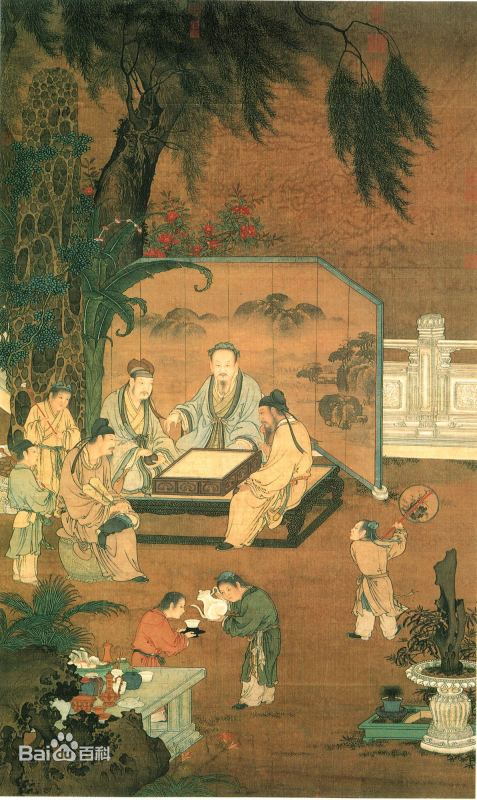chessboard: (156, 440, 262, 498)
decoration: (85, 263, 404, 495), (405, 548, 477, 758), (385, 482, 445, 537), (184, 589, 228, 621), (184, 615, 200, 638)
flower: (134, 197, 279, 260)
kid: (341, 506, 406, 639), (25, 378, 80, 498), (4, 438, 47, 590), (124, 582, 196, 666)
man: (219, 386, 317, 550), (61, 423, 146, 587), (168, 349, 270, 453), (100, 360, 182, 480)
table: (133, 455, 357, 550), (61, 647, 224, 756)
tree: (48, 5, 440, 258)
wall: (376, 320, 477, 459)
woman: (215, 566, 282, 709)
